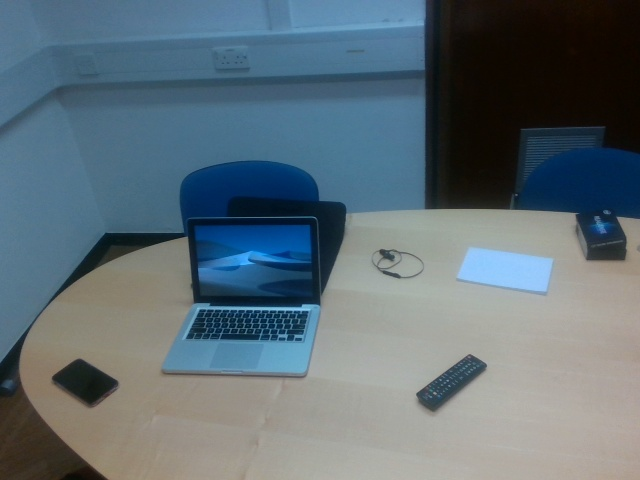remote: (416, 354, 488, 411)
